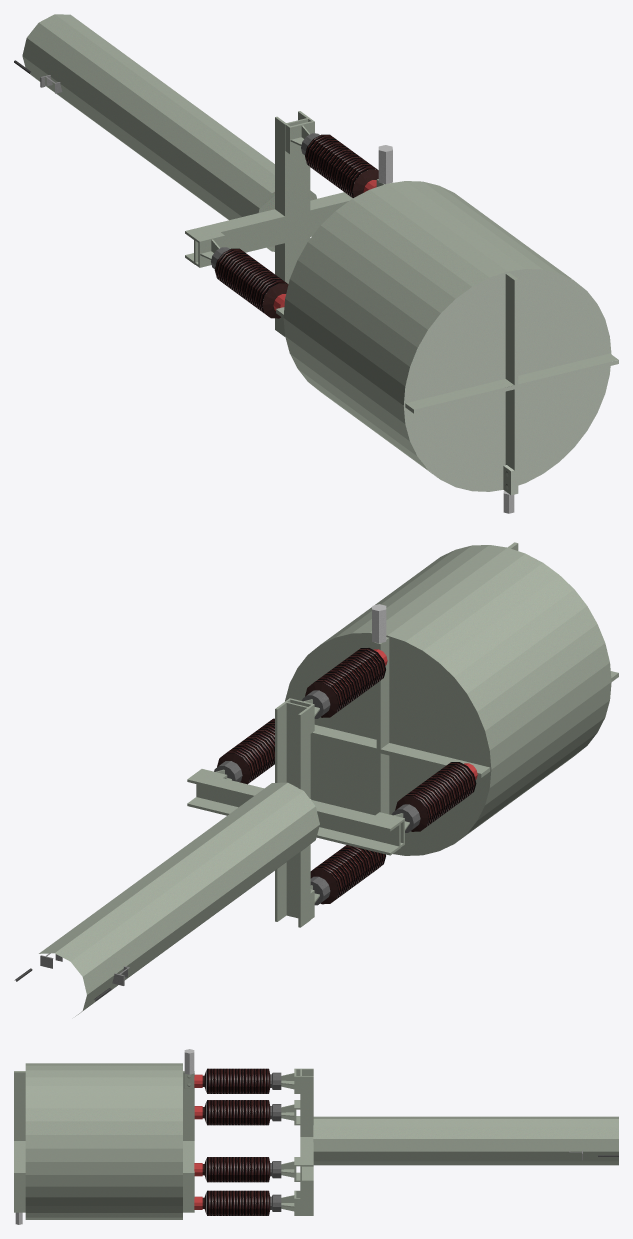
The model's file is dkq-11m30000020639566-geode.glb.
3 views of the same model, one above another, from view 1: azimuth 30°, elevation 25°; view 2: azimuth 150°, elevation 25°; view 3: azimuth 270°, elevation 25° (orthographic). The views are drawn at different scales.
Visible parts, largest first — view 1: Node; view 2: Node; view 3: Node.
Part boxes in pixels (left/top/right/bottom): Node: left=14, top=14, right=618, bottom=513; Node: left=14, top=542, right=618, bottom=1016; Node: left=14, top=1049, right=618, bottom=1224.
Size of the model in its own units: 1.08 by 1.3 by 4.09.
Materials: 10 (10 with a texture image).
